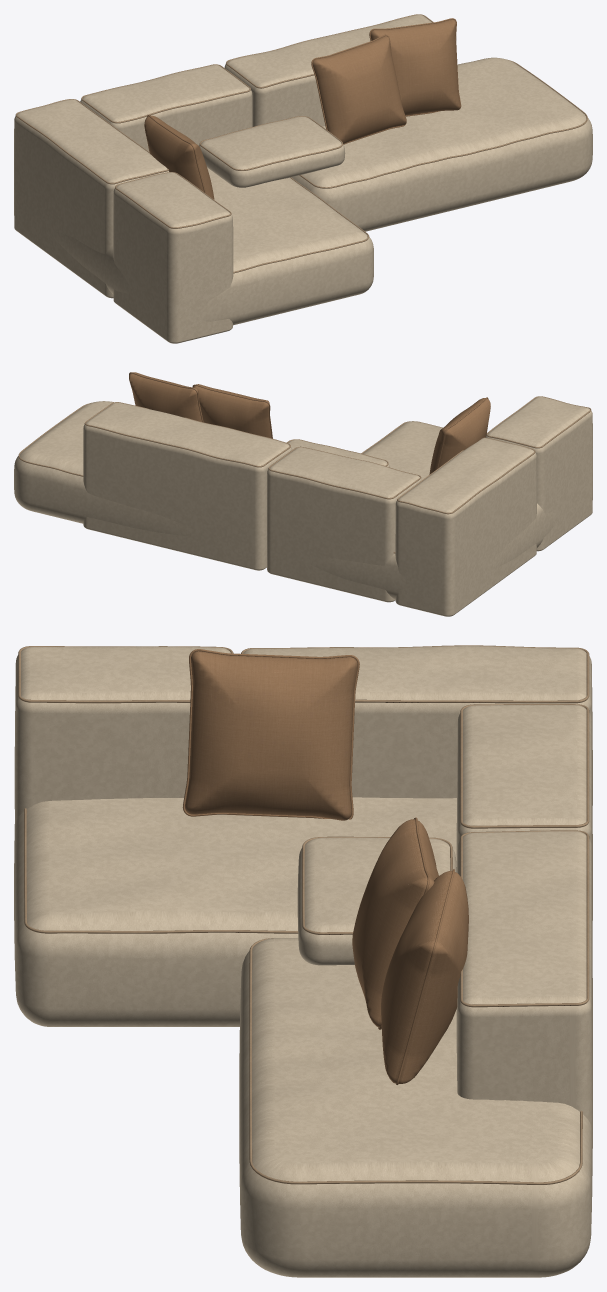
Rendered from corner.glb.
3 renders of one model, top to bottom at view 1: azimuth 30°, elevation 25°; view 2: azimuth 150°, elevation 25°; view 3: azimuth 270°, elevation 25°, orthographic. The views are drawn at different scales.
Visible parts, largest first — view 1: fabric, accent, trim; view 2: fabric, accent, trim; view 3: fabric, accent, trim.
Part boxes in pixels (<box>): fabric: <box>14,14,592,343</box>; accent: <box>144,18,461,199</box>; trim: <box>15,14,587,273</box>; fabric: <box>14,396,592,616</box>; accent: <box>129,372,490,474</box>; trim: <box>18,396,591,553</box>; fabric: <box>14,646,592,1277</box>; accent: <box>182,649,468,1084</box>; trim: <box>18,645,589,1184</box>.
Bounding box in the file's own units: 3.2 × 0.9564 × 1.8.
Materials: 4 (4 with a texture image).
